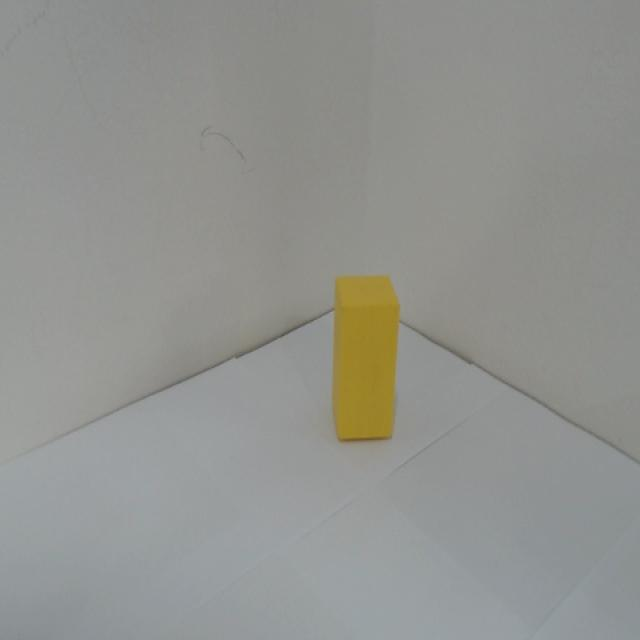cube: (327, 272, 401, 442)
